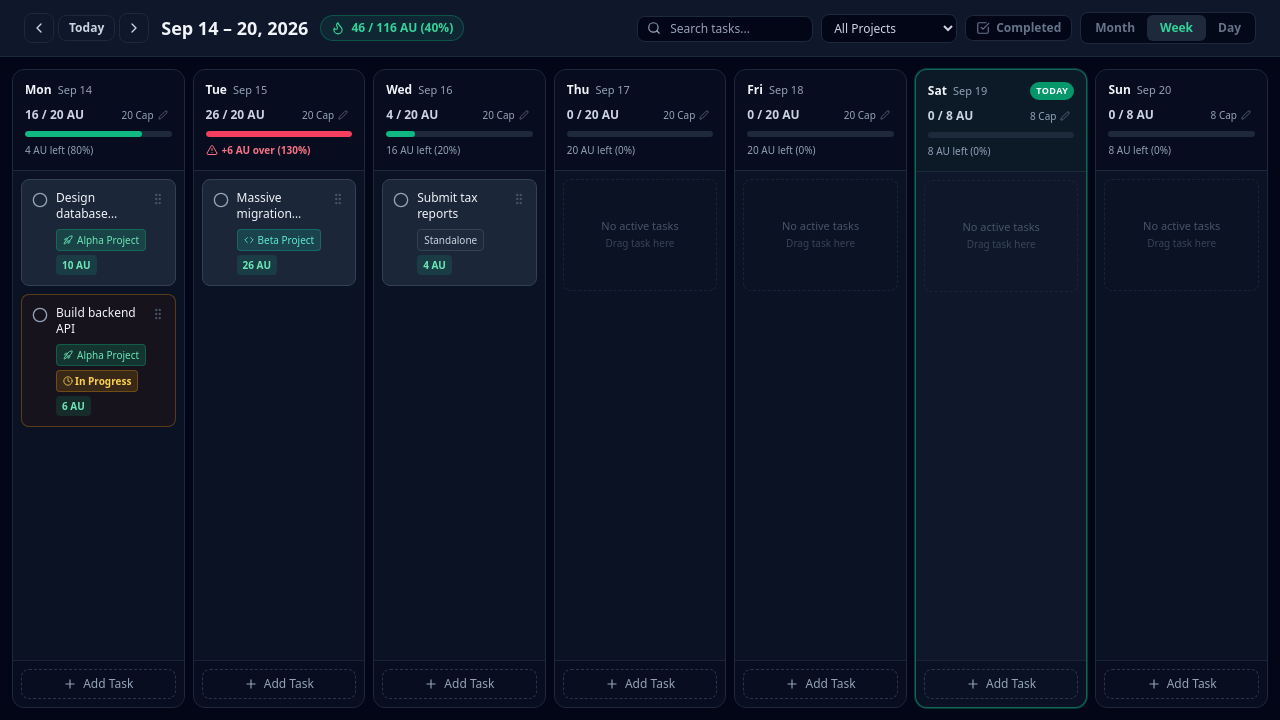
Test: TaskCalendarView - Dedicated Full Task Calendar › filters tasks by project dropdown
This screenshot has width=1280, height=720.
Select "Standalone Tasks" in the dropdown. click: (889, 28)
box: [821,14,957,42]
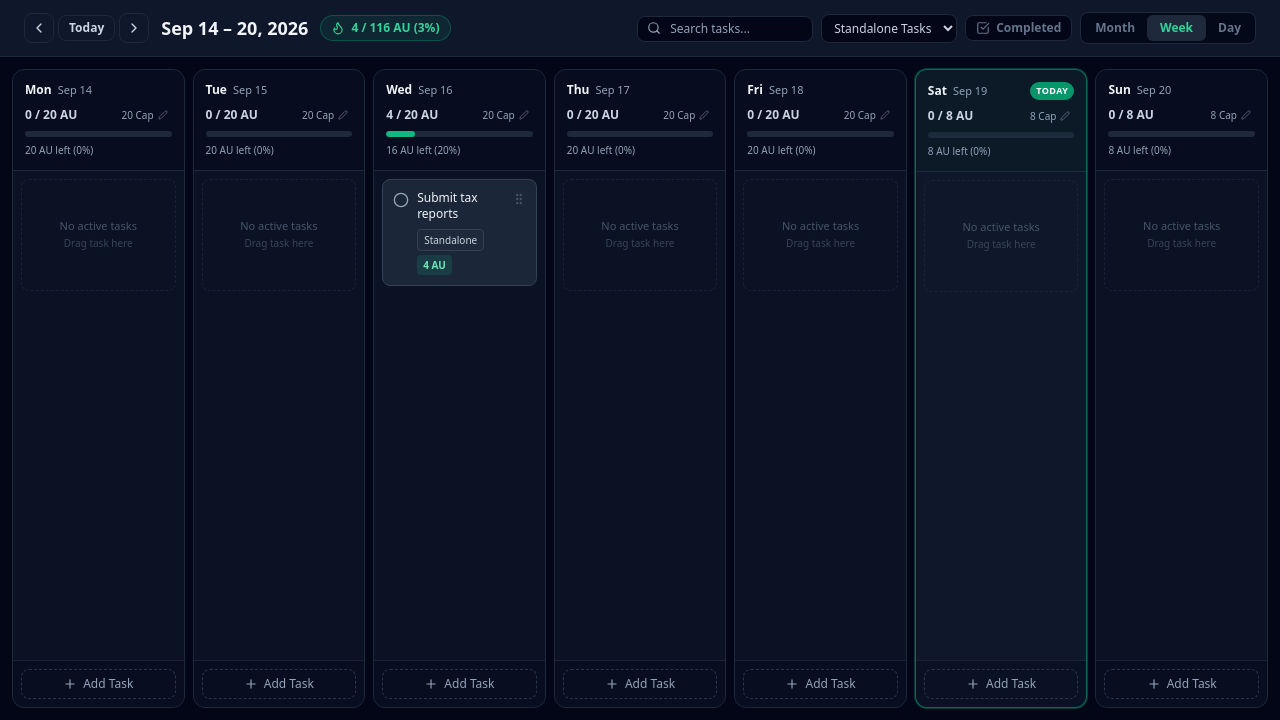
Expected: the text "Submit tax reports" is shown, [417,188,478,222]
Result: the text "Design database schema" is gone
Result: the text "Massive migration refactor" is gone
